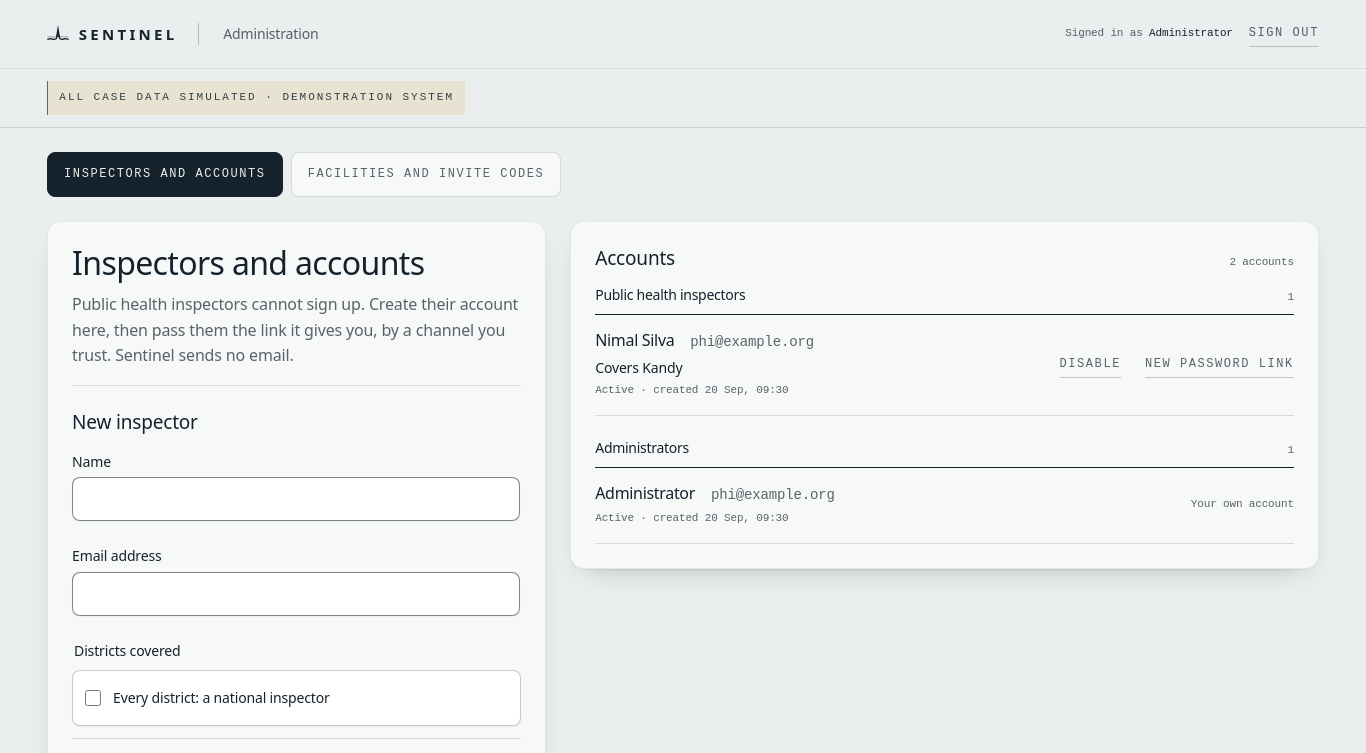
AdminPage: accounts › asks for every district as the wildcard
This screenshot has width=1366, height=753.
Type "National" into the field labelled "Name".
click(296, 499); type("National")  # box [72,477,520,521]
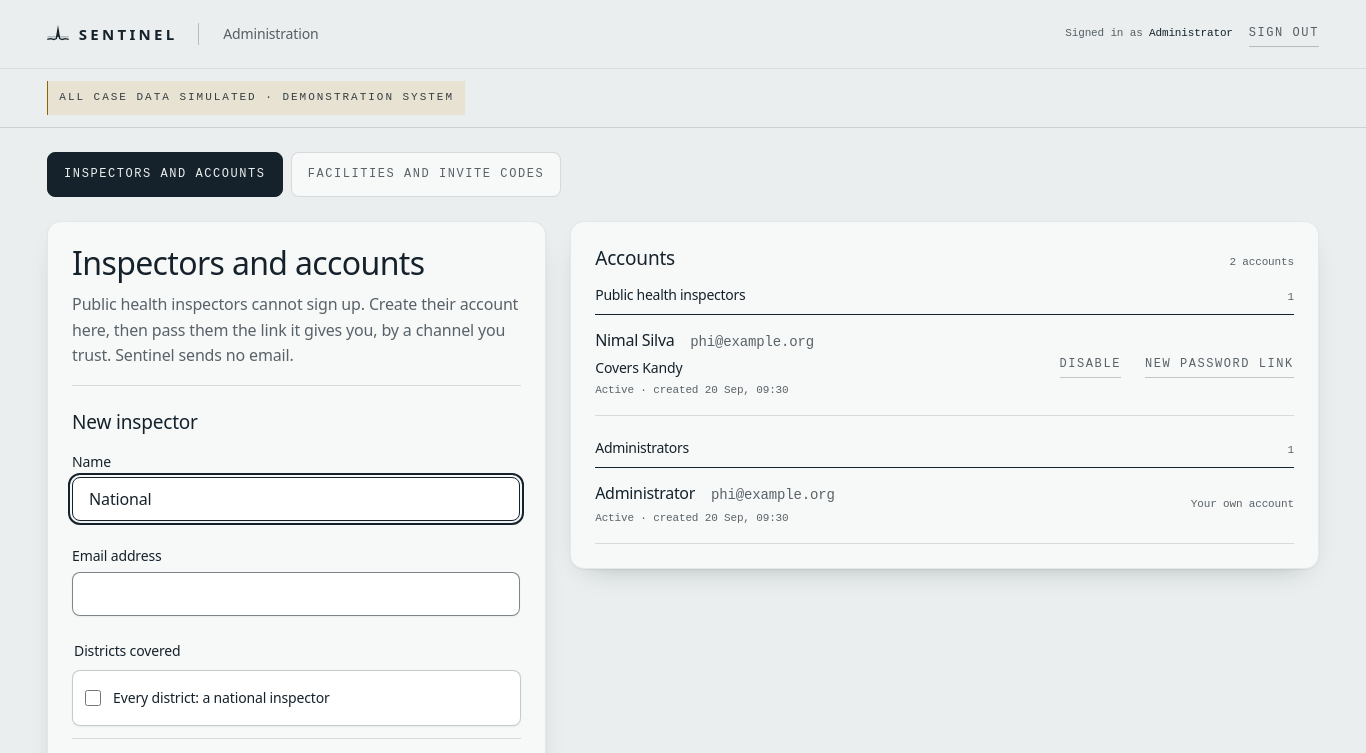
Type "national@example.org" into the field labelled "Email address".
click(296, 594); type("national@example.org")  # box [72,572,520,616]
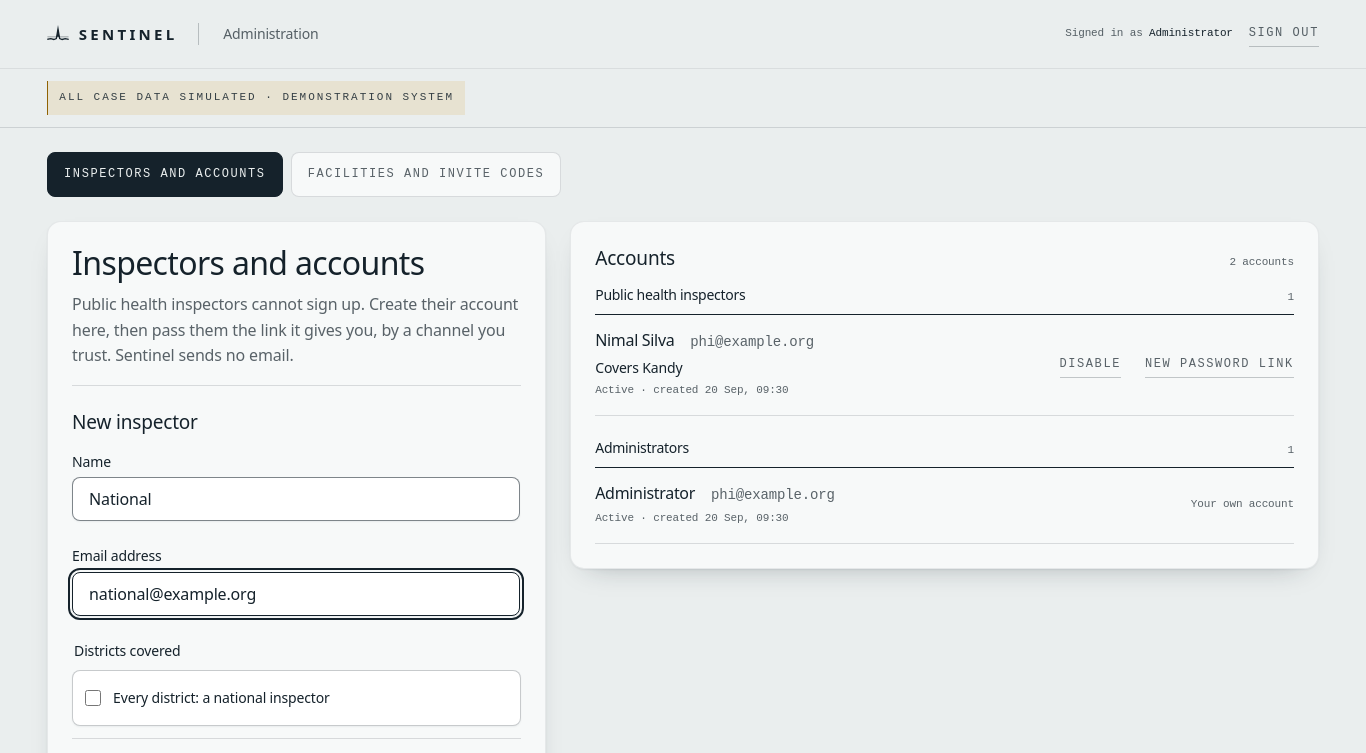
Click the checkbox labelled "Every district: a national inspector".
click(93, 698)  # box [85,690,101,706]
(page scrolled)
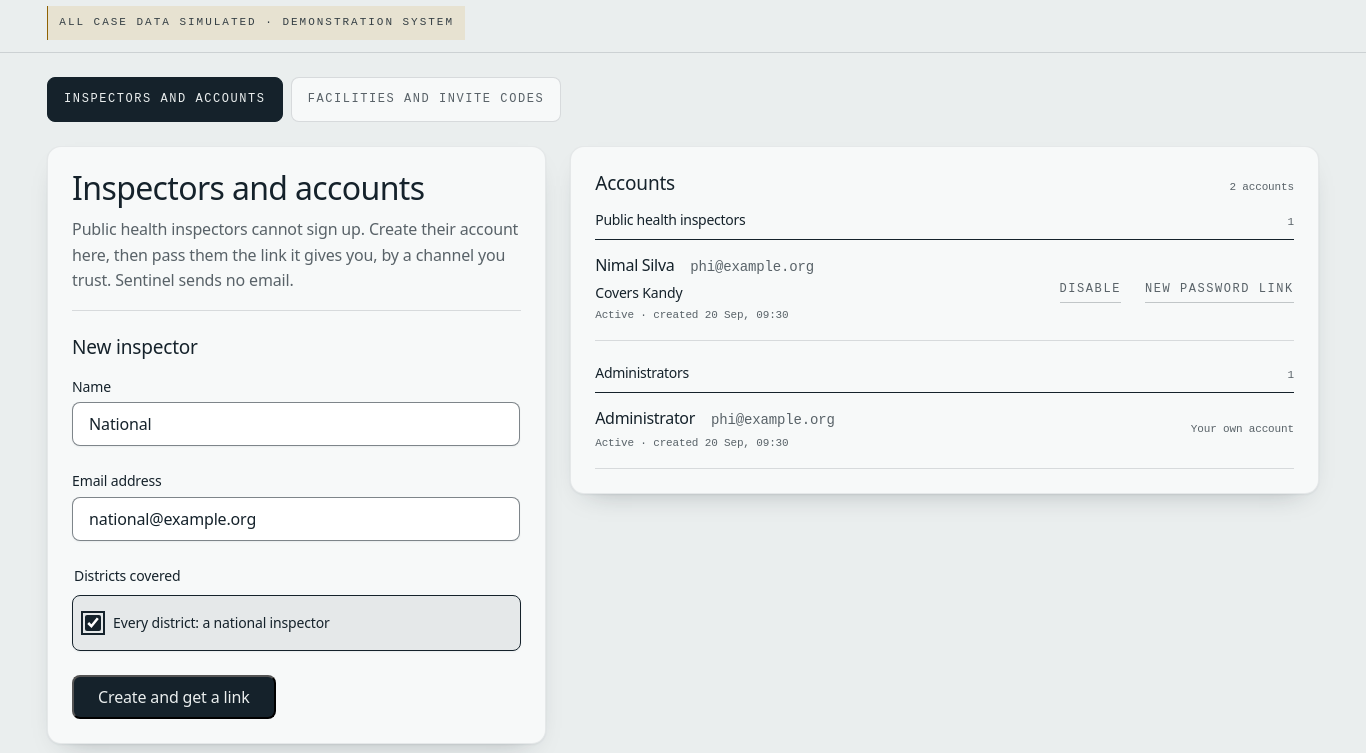
Click the button "Create and get a link".
click(174, 697)  # box [72,675,276,719]
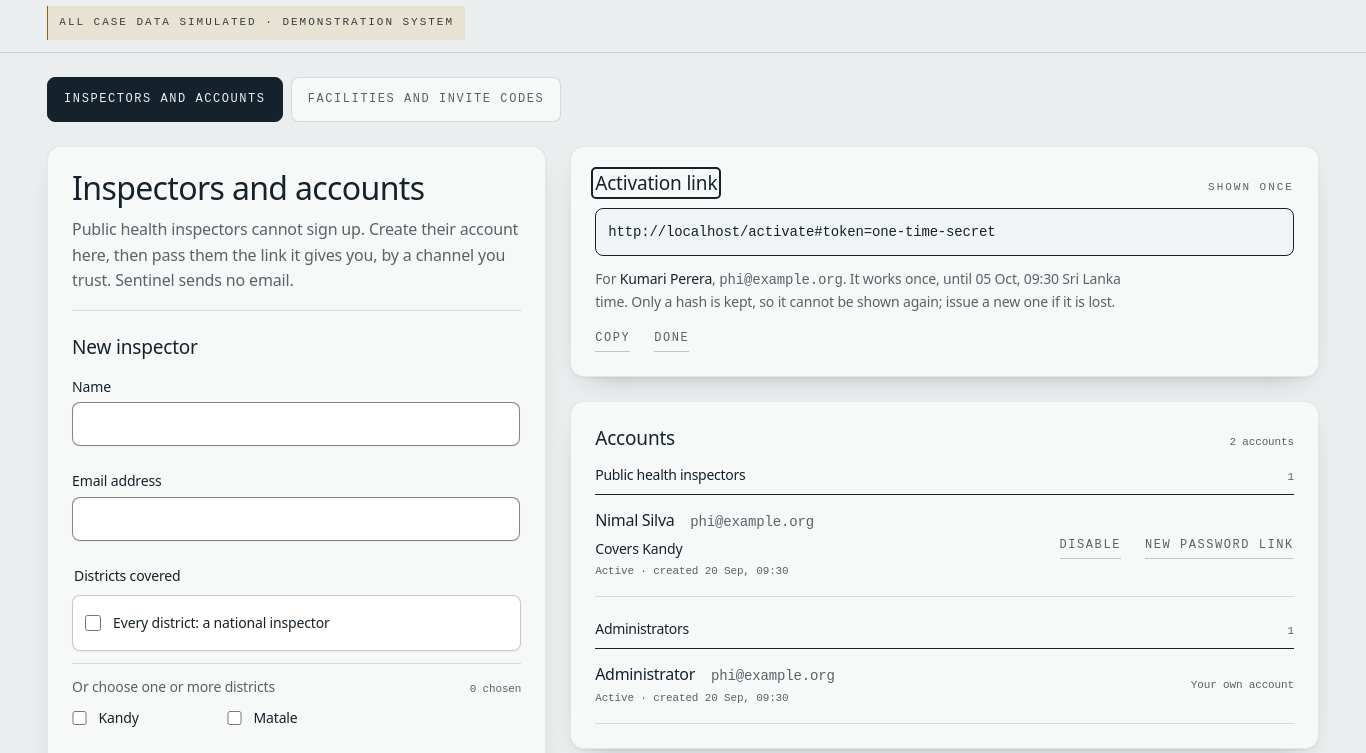
Expected: the element "Activation link" is shown, [570,146,1319,377]
